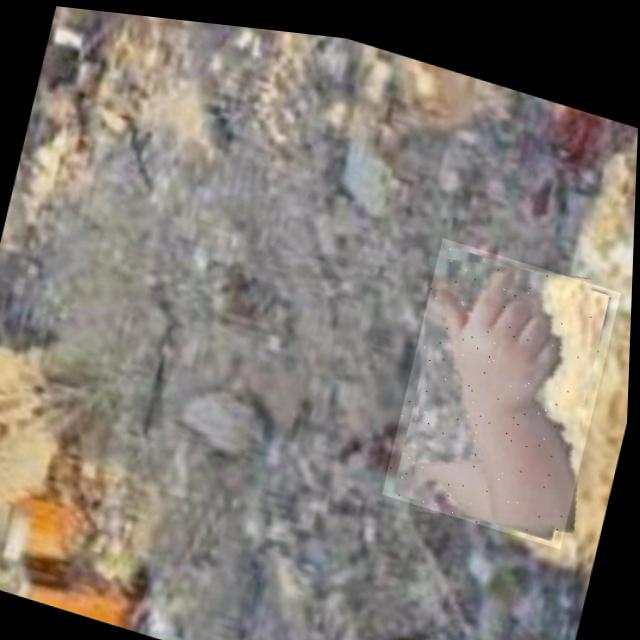Person in Rubble: (384, 222, 624, 540)
